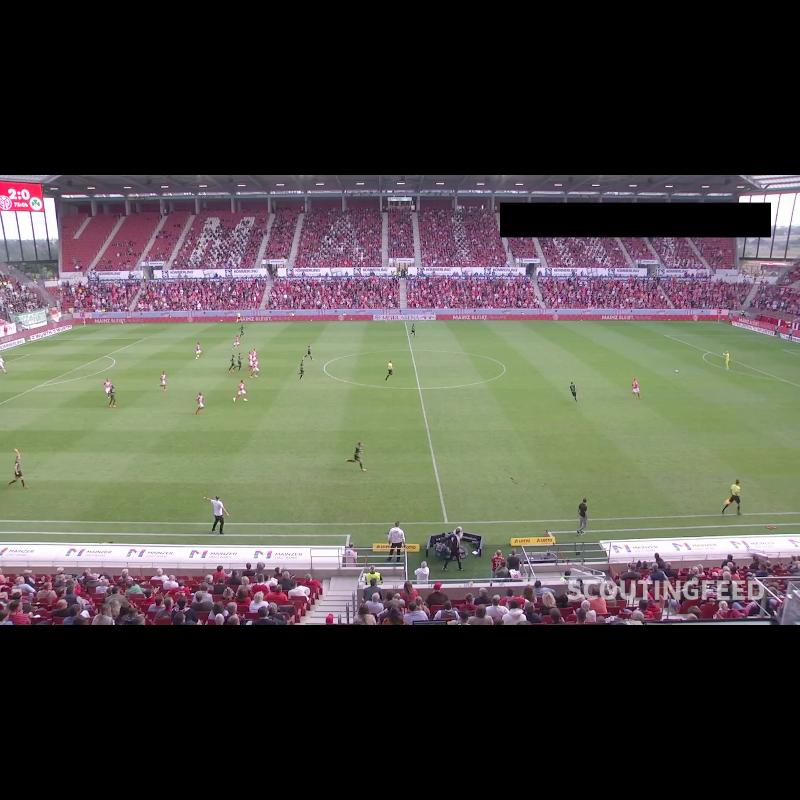cross_recipient_zone: (0, 338, 145, 404)
crossing_player_zone: (42, 325, 235, 339), (577, 322, 766, 335), (0, 430, 49, 467)
pitch: (0, 322, 800, 524)
